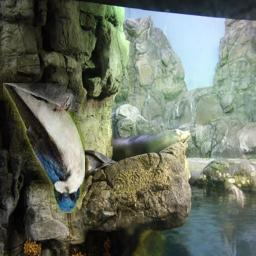Swallow: (3, 83, 85, 213)
